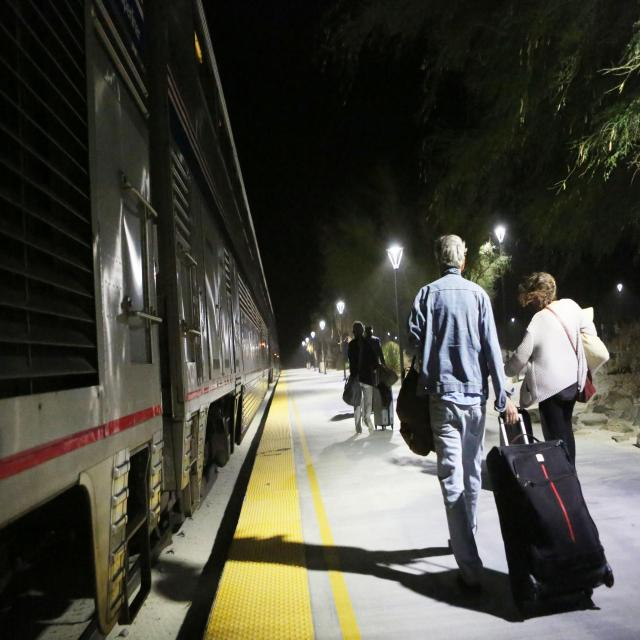body: (405, 232, 520, 596), (145, 526, 496, 616), (503, 270, 599, 474), (342, 319, 384, 435), (363, 325, 390, 370)
